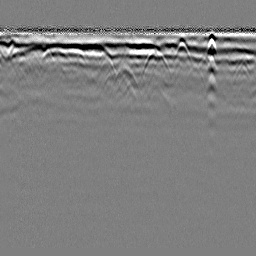cavity: (114, 63, 138, 89)
